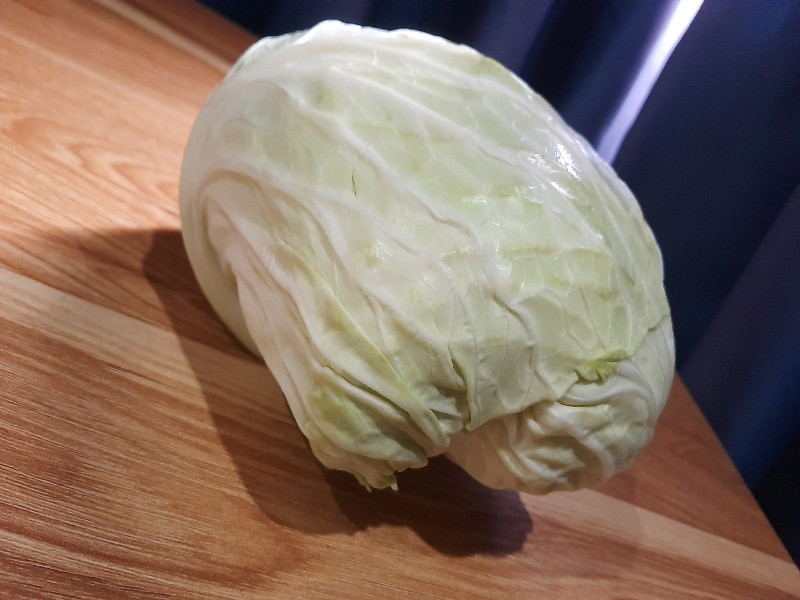vege: (164, 14, 686, 511)
